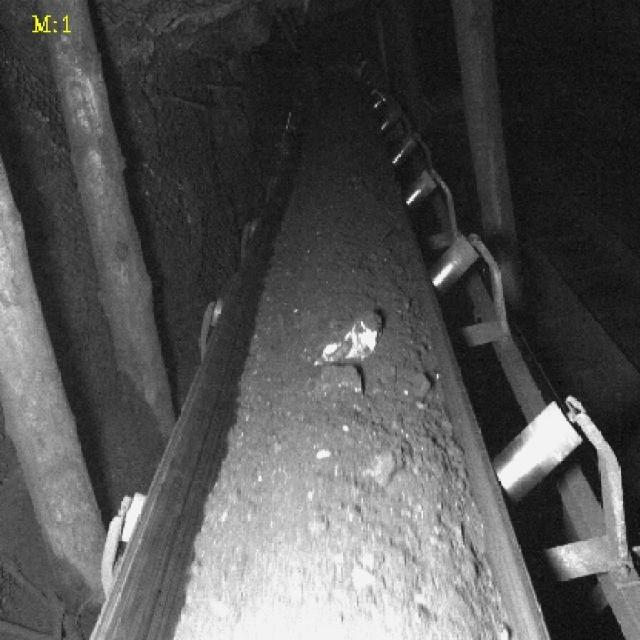large_sized_coal: (317, 310, 381, 358), (362, 440, 411, 482), (315, 365, 363, 397)
